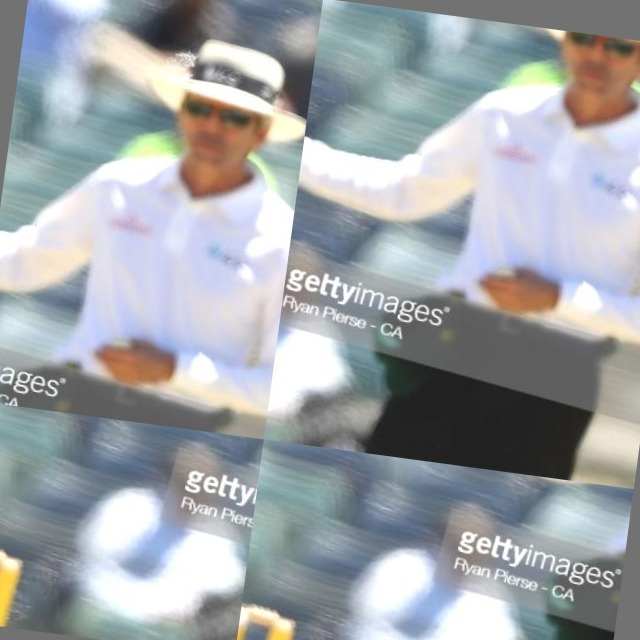No_Ball: (260, 443, 634, 640)
Out: (0, 0, 266, 272)
Six: (293, 0, 484, 246)
Wide: (0, 401, 264, 616)
